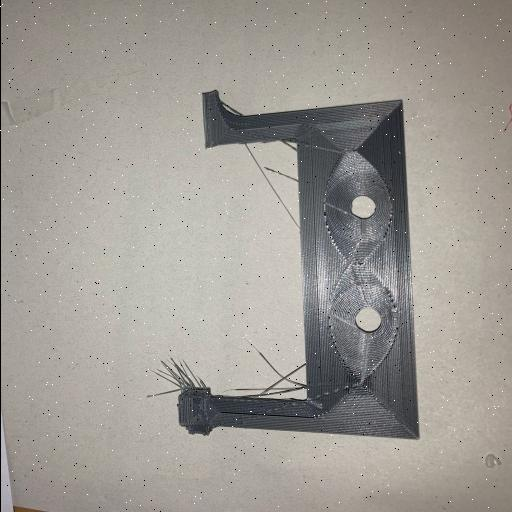stringing: (244, 364, 304, 400), (152, 352, 196, 394)
